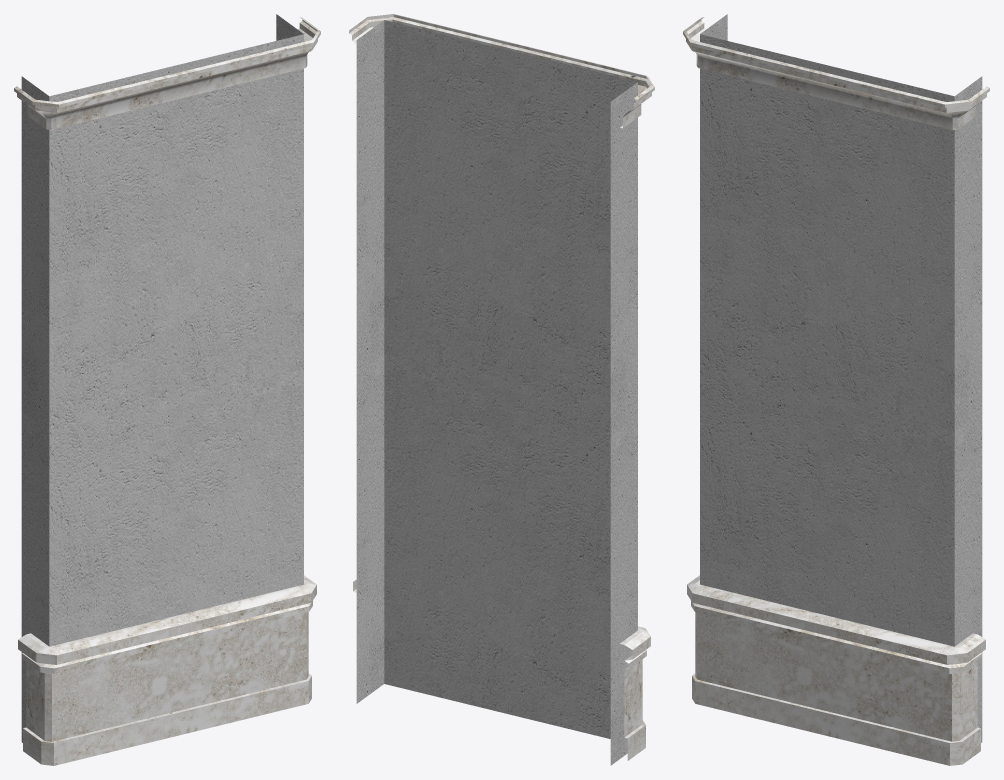
Rendered from WC_Extrusion.fbx.
3 views of the same model, side by side, from view 1: azimuth 30°, elevation 25°; view 2: azimuth 150°, elevation 25°; view 3: azimuth 330°, elevation 25° (orthographic).
Parts seen in each view (by area): view 1: WC_ExtrudedWall; view 2: WC_ExtrudedWall; view 3: WC_ExtrudedWall.
Boxes of the visible parts, x1,y1,x2,y2 form: WC_ExtrudedWall: [14, 14, 320, 765]; WC_ExtrudedWall: [349, 14, 654, 765]; WC_ExtrudedWall: [683, 14, 989, 765].
Size of the model in its own units: 453 by 1000 by 101.
